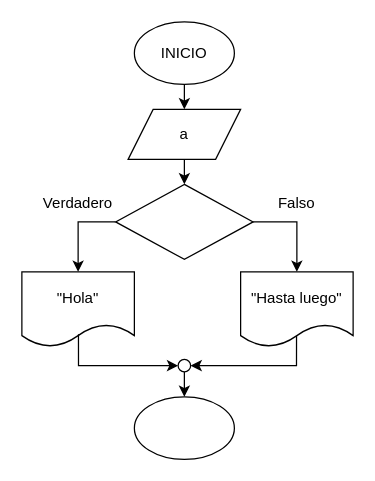
Image size: 375x481. Some labels were removed from this diagram. The centre of each missing label's shape, as x and y in pixels:
a≥0: point 183,221
FIN: point 183,427
